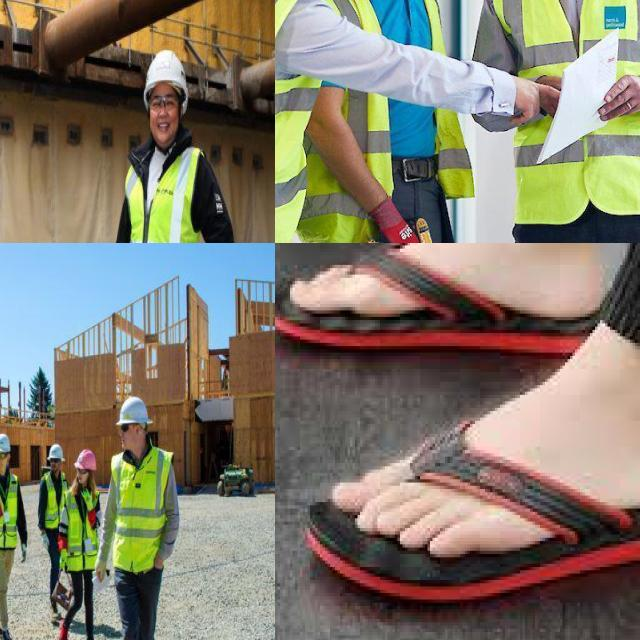Sandals: (275, 243, 640, 619)
face_nomask: (140, 90, 183, 158)
glasses: (148, 90, 181, 115), (74, 461, 90, 477), (118, 421, 132, 437), (0, 447, 9, 462)
hand_glove: (361, 188, 432, 243), (14, 533, 31, 570), (94, 552, 110, 586), (154, 552, 169, 588), (79, 484, 96, 511), (56, 545, 70, 576)
hand_noglove: (511, 66, 564, 134), (594, 66, 640, 127)
head_helmet: (142, 49, 187, 106), (115, 395, 152, 430), (72, 447, 96, 470), (48, 443, 64, 463), (0, 431, 10, 455)
person: (313, 0, 467, 243), (487, 0, 640, 243), (94, 38, 214, 243), (101, 395, 180, 640), (63, 446, 104, 640), (0, 432, 29, 640), (39, 437, 68, 623)
shoes: (0, 622, 16, 640), (0, 611, 4, 640)
vest: (310, 0, 498, 243), (487, 0, 640, 221), (275, 0, 321, 243), (109, 441, 176, 573), (120, 149, 203, 243), (61, 476, 100, 571), (41, 469, 70, 530), (0, 466, 19, 550)
